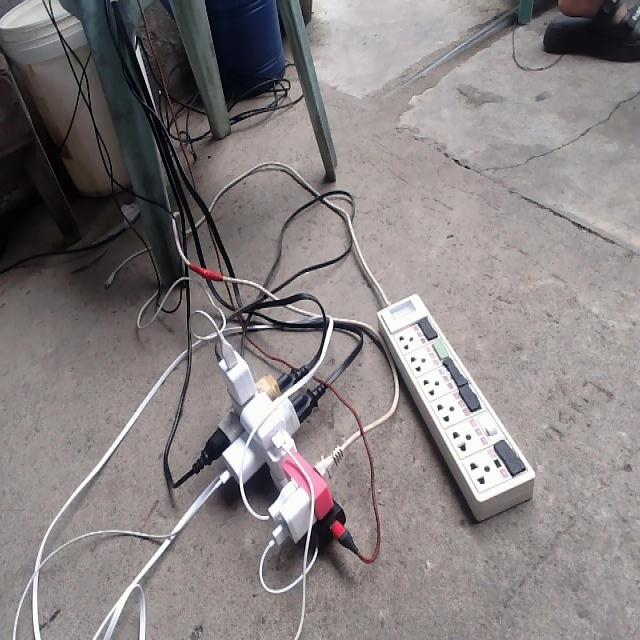-: (178, 309, 379, 563)
